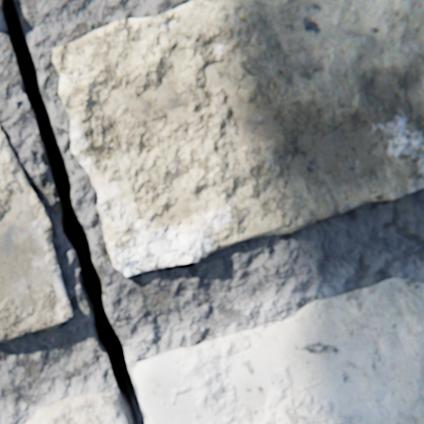brick: (53, 0, 423, 277), (0, 127, 73, 342)
broken_brick: (133, 278, 423, 423), (26, 392, 127, 423), (0, 0, 2, 10)
crack: (2, 0, 145, 423)
